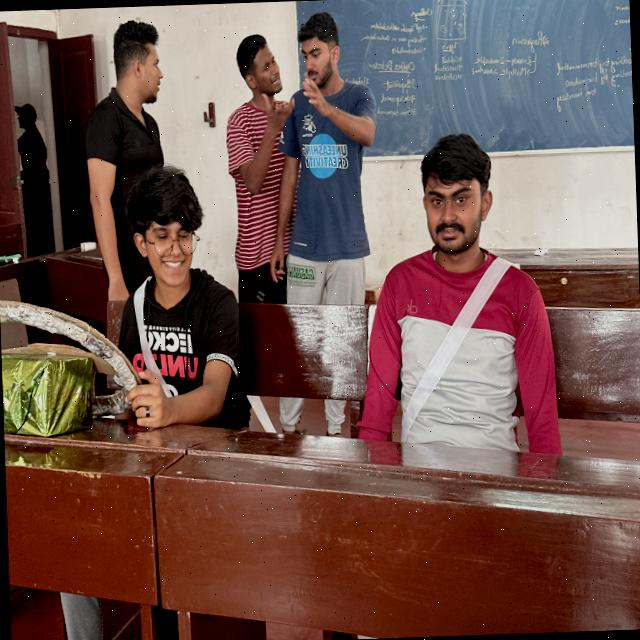seatbelt: (388, 255, 536, 447), (120, 282, 237, 412)
